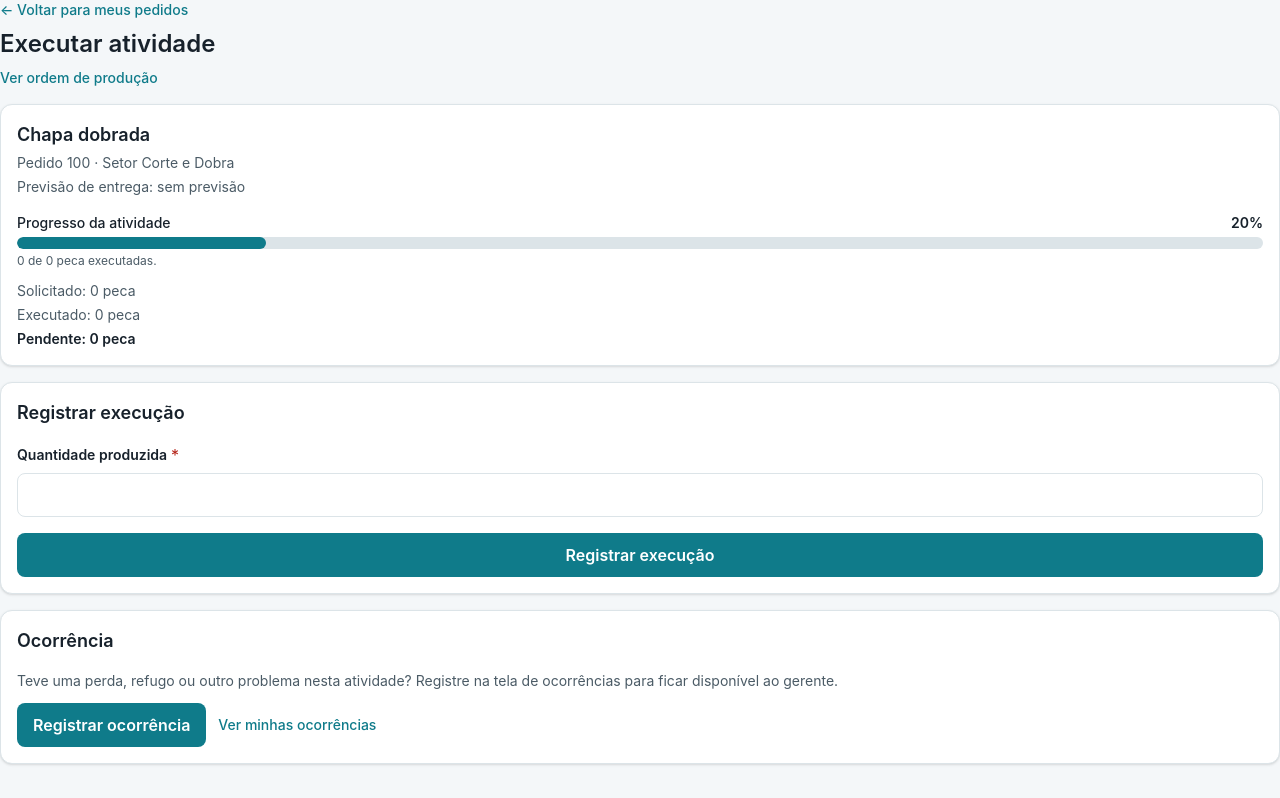
Scenario: ExecutarAtividadePage › quantidade válida registra a execução e confirma (FE-09)
Type "8" into the number field labelled "Quantidade produzida" at (640, 495), box [17, 473, 1263, 517]
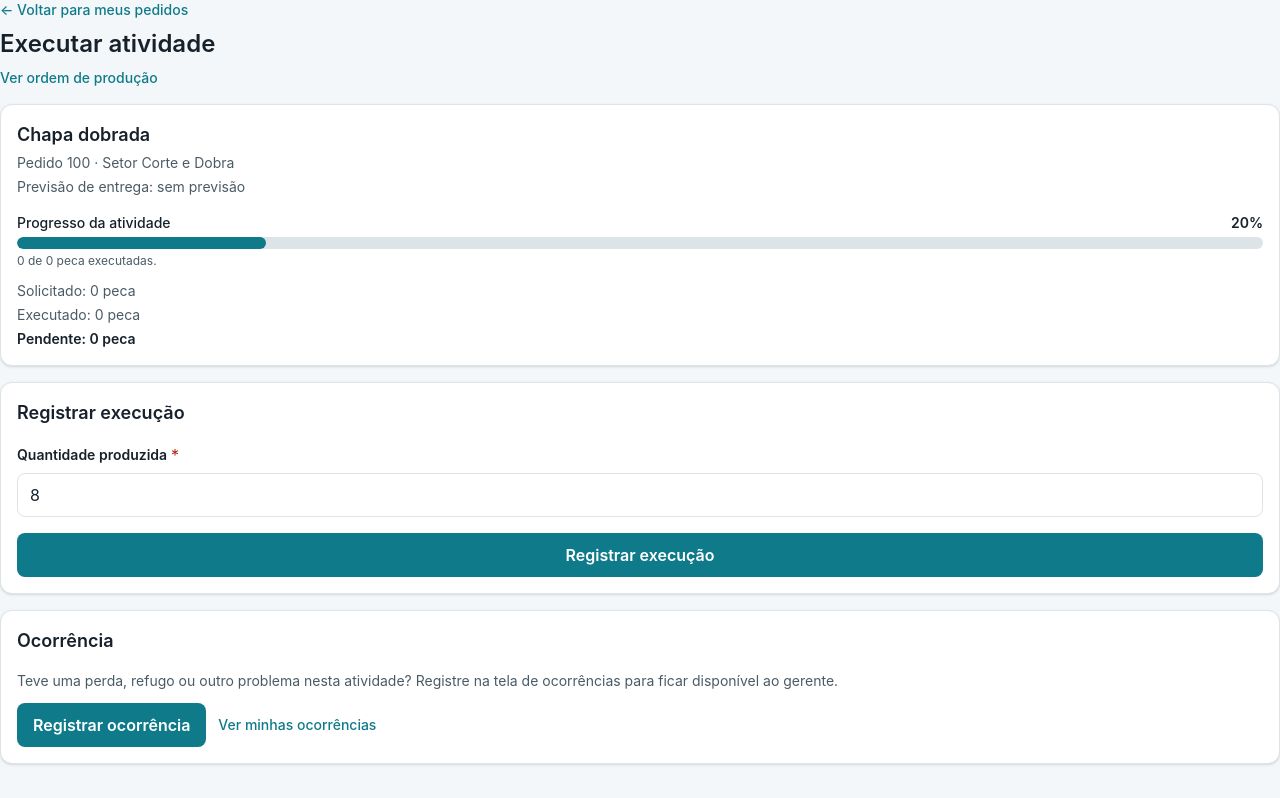
Click the button "Registrar execução" at (640, 555), box [17, 533, 1263, 577]
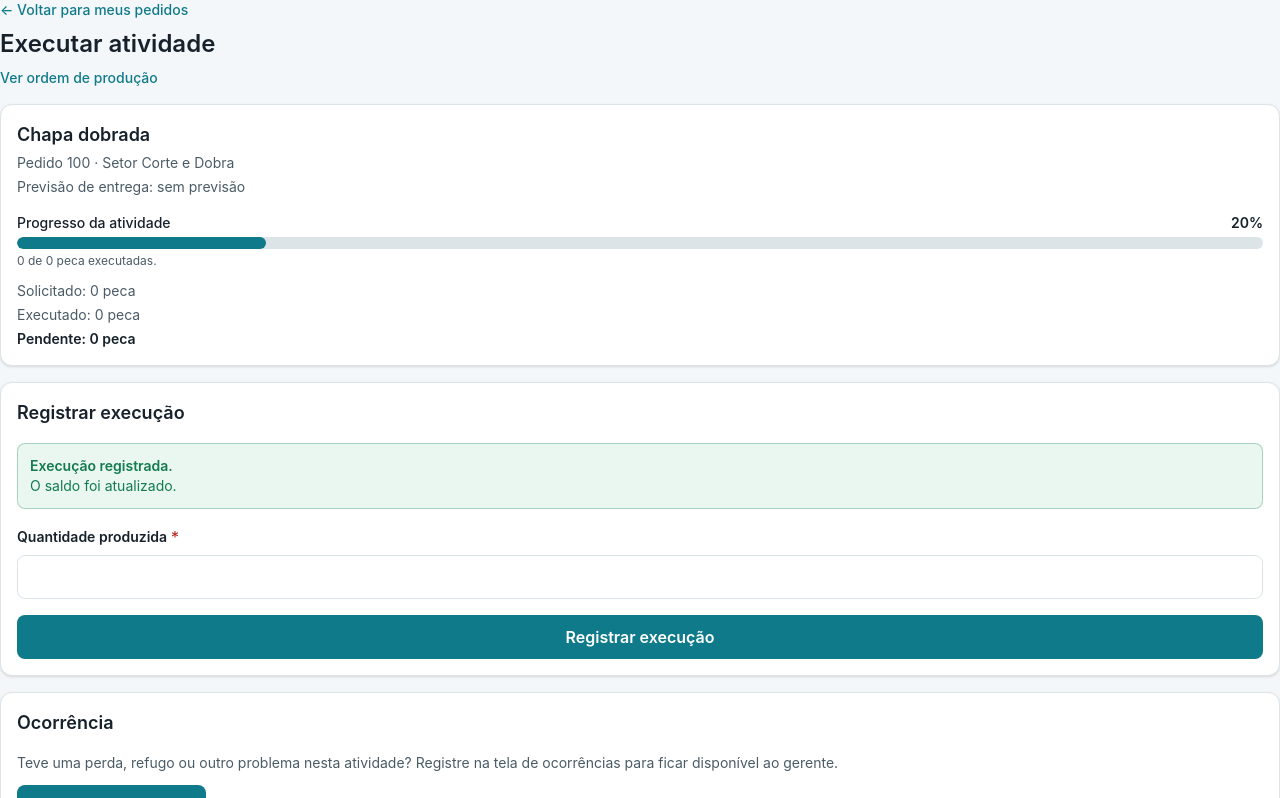
expect the text "Execução registrada." is shown: met, box [30, 456, 177, 476]
